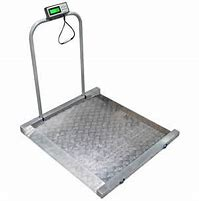Industrial Scale: (19, 1, 180, 200)
